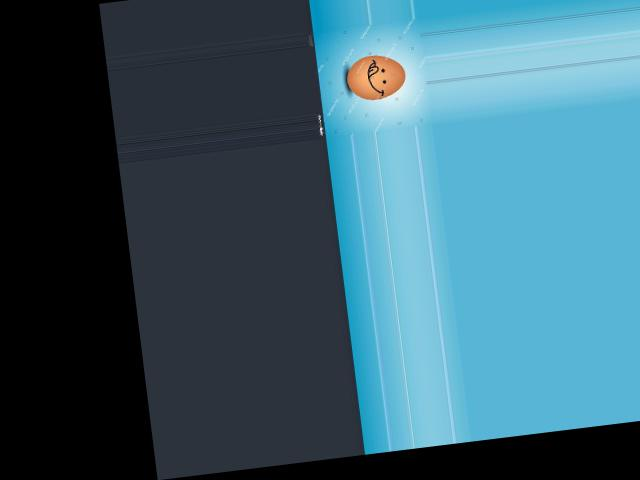egg: (344, 51, 407, 102)
